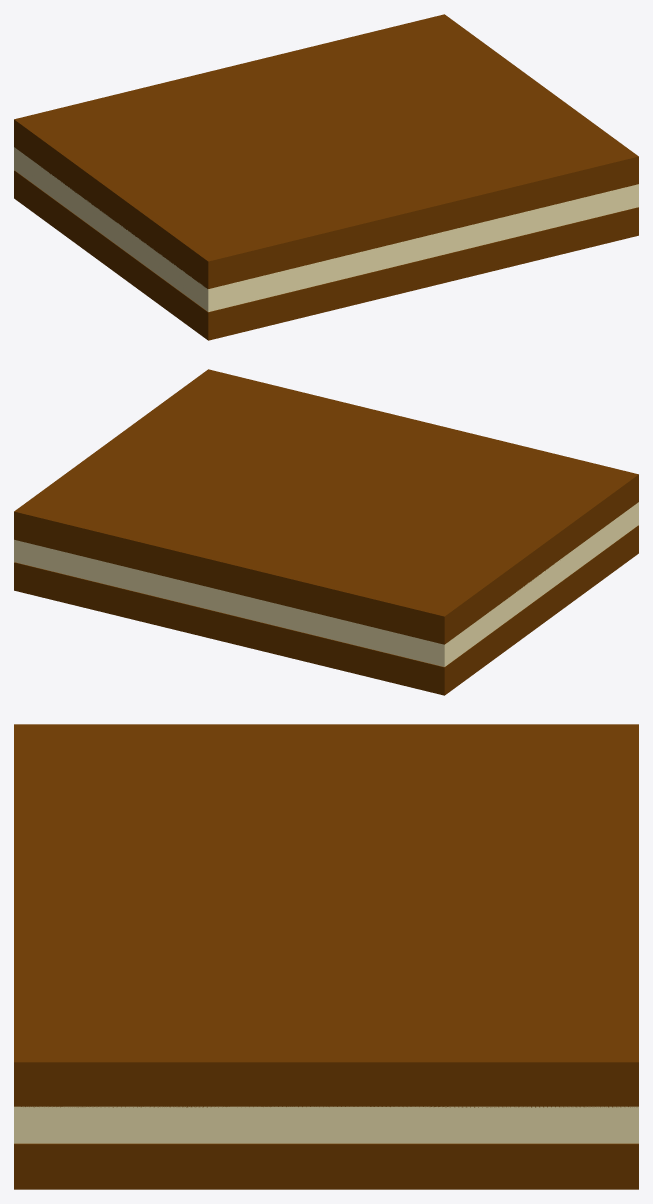
File: animated_book.glb
3 renders of one model, top to bottom at view 1: azimuth 30°, elevation 25°; view 2: azimuth 150°, elevation 25°; view 3: azimuth 270°, elevation 25°, orthographic. The views are drawn at different scales.
Visible parts, largest first — view 1: Cube.003_9, Cube_6, Cube.001_7, Cube.002_8; view 2: Cube.003_9, Cube_6, Cube.001_7, Cube.002_8; view 3: Cube.003_9, Cube_6, Cube.001_7, Cube.002_8.
Boxes of the visible parts, box(x1,y1,x2,y2) form: Cube.003_9: box(14, 14, 638, 288); Cube_6: box(14, 170, 638, 340); Cube.001_7: box(14, 158, 638, 311); Cube.002_8: box(14, 147, 638, 300); Cube.003_9: box(14, 369, 638, 644); Cube_6: box(14, 525, 638, 695); Cube.001_7: box(14, 514, 638, 666); Cube.002_8: box(14, 502, 638, 655); Cube.003_9: box(14, 724, 638, 1107); Cube_6: box(14, 1143, 638, 1189); Cube.001_7: box(14, 1125, 638, 1143); Cube.002_8: box(14, 1106, 638, 1124).
Bounding box in the file's own units: 3.49 × 0.6128 × 2.73.
